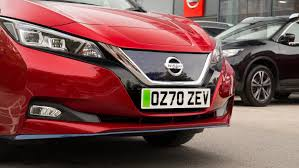number_plate: (132, 86, 214, 111)
